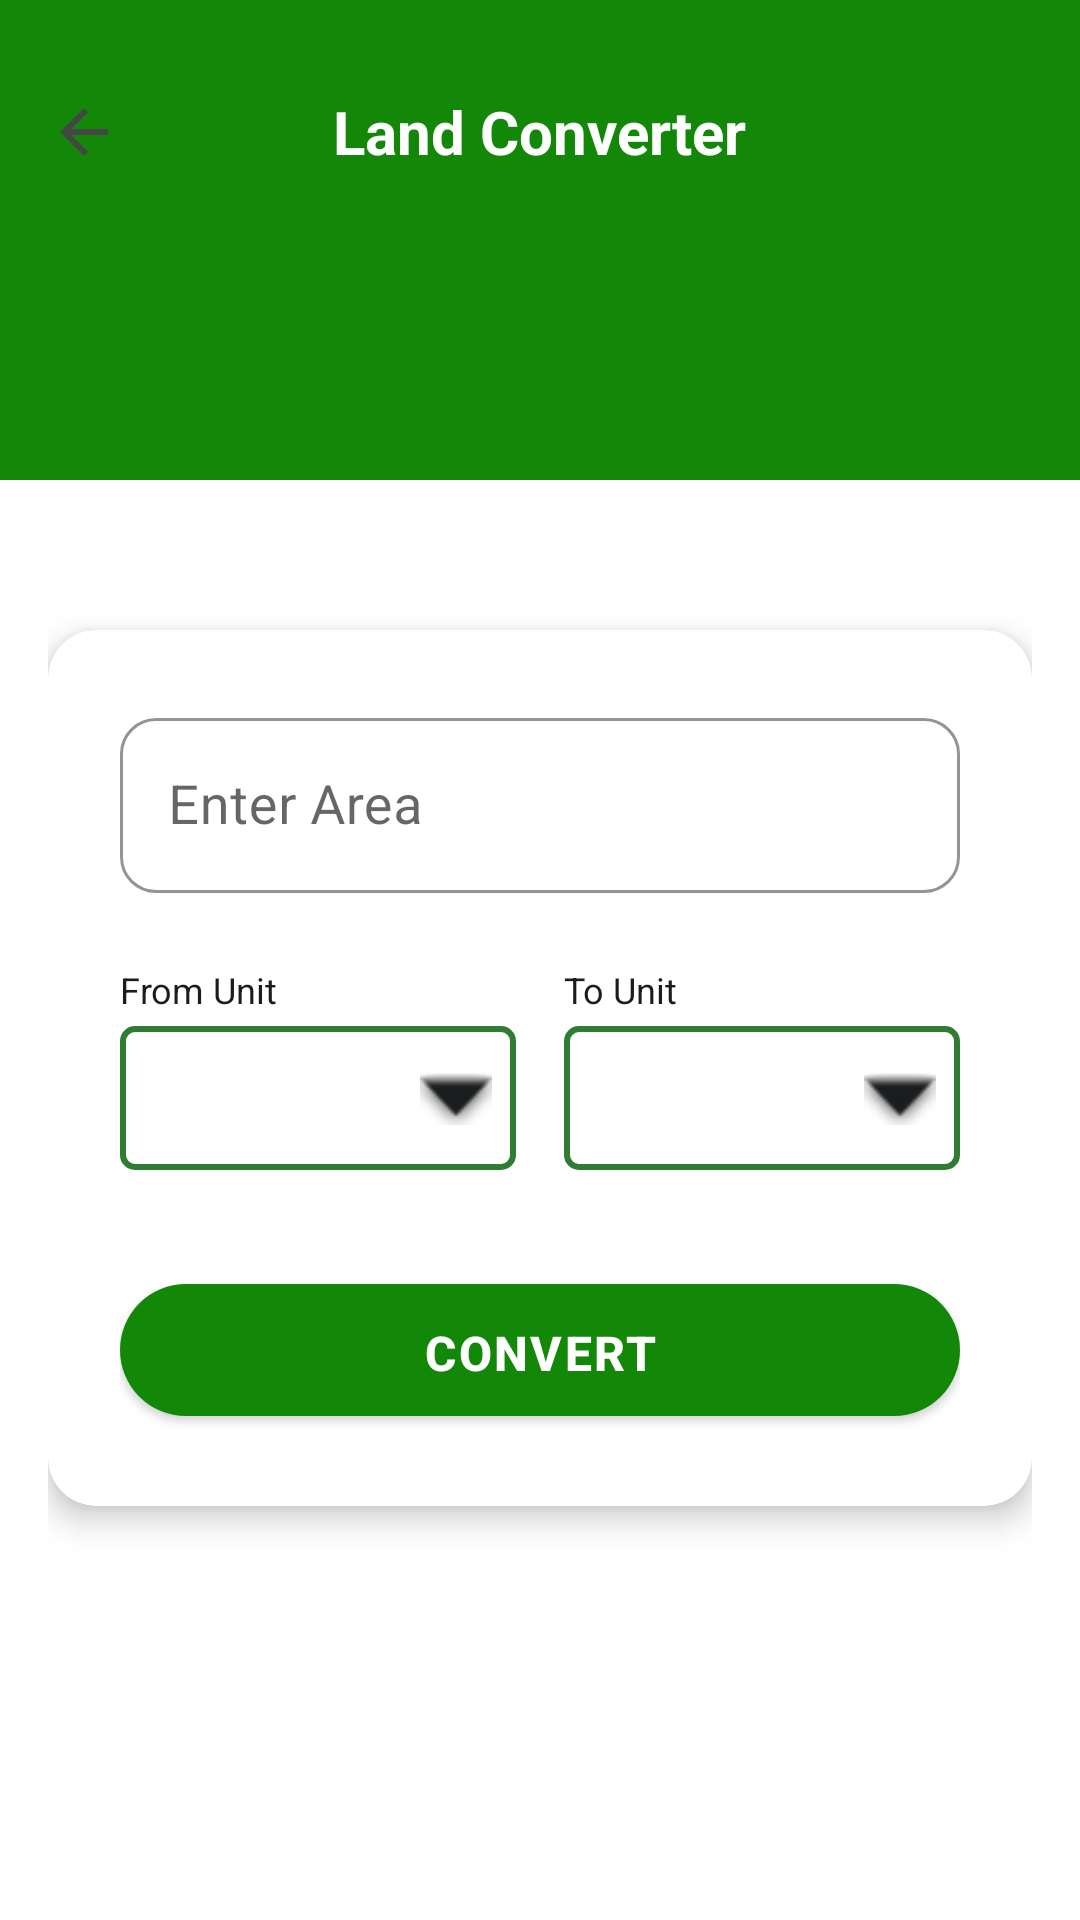

Icons on this 1080w x 1920h Android screen, each with its box as (x1, y1, x2, y2):
arrow down float: (420, 1074, 492, 1123), (864, 1074, 936, 1123)
